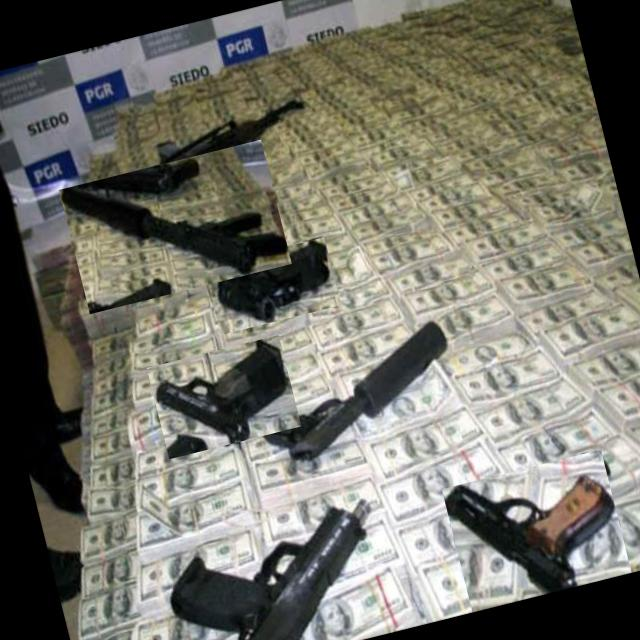Gun: (261, 321, 447, 473), (169, 507, 366, 640), (444, 475, 616, 593), (60, 187, 287, 275), (126, 102, 302, 196), (154, 339, 291, 442), (204, 242, 331, 322)
